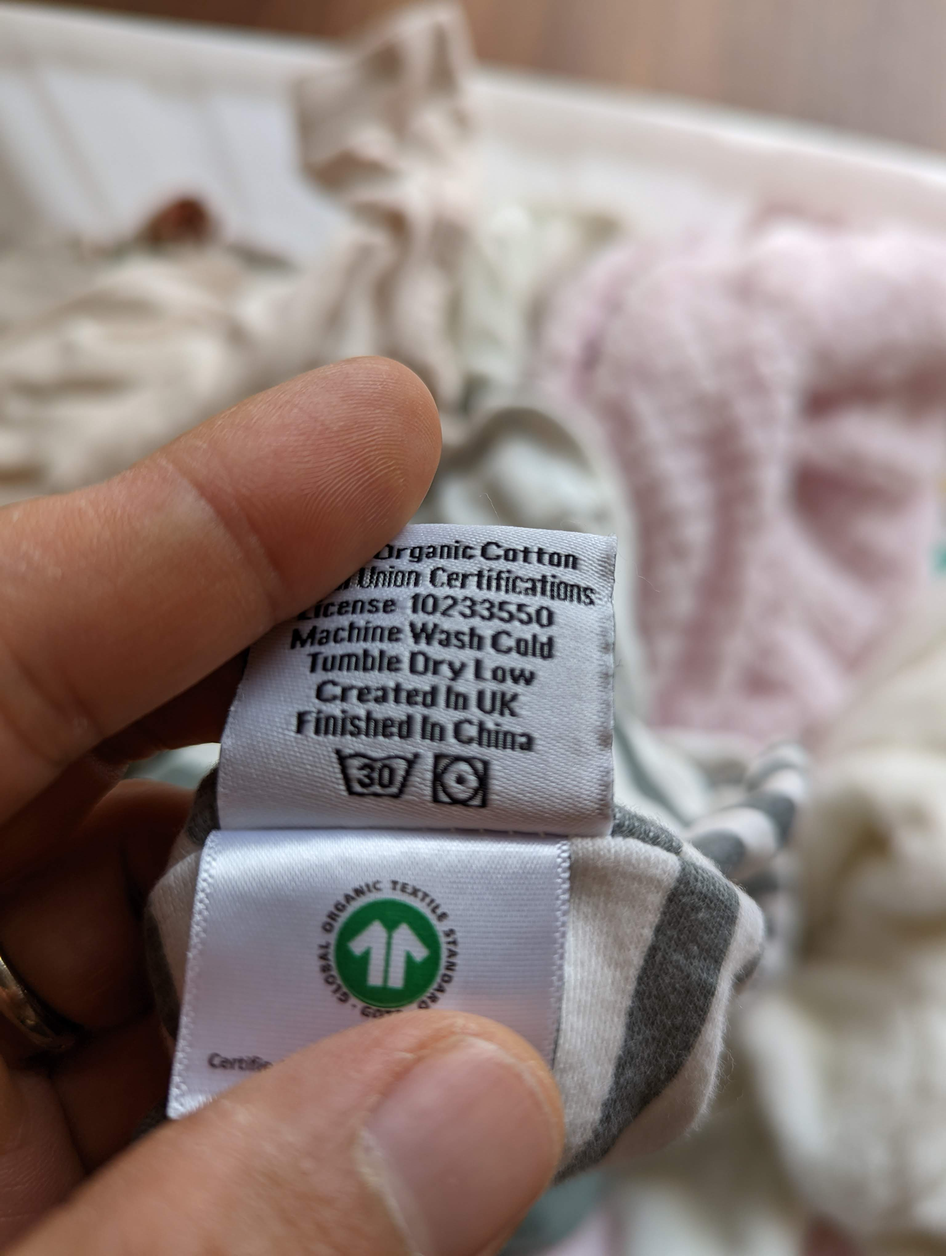ER_tumble_dry_low_heat: (427, 749, 495, 812)
ER_wash_30: (330, 740, 424, 803)
